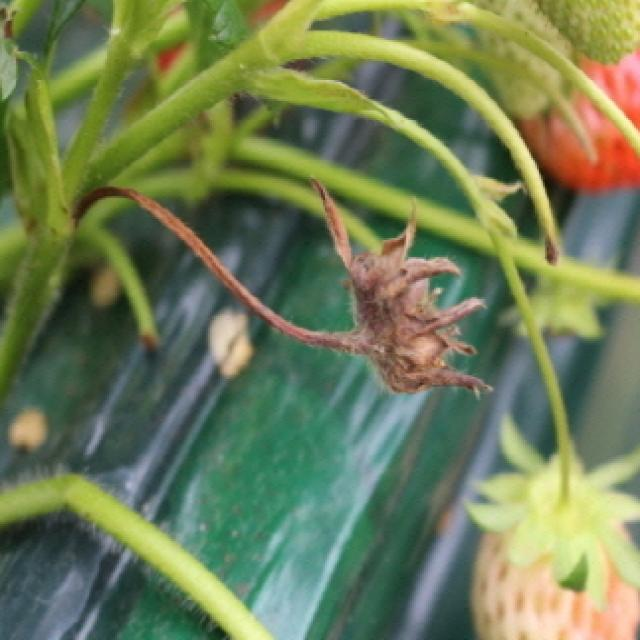Gray Mold: (257, 179, 497, 396)
